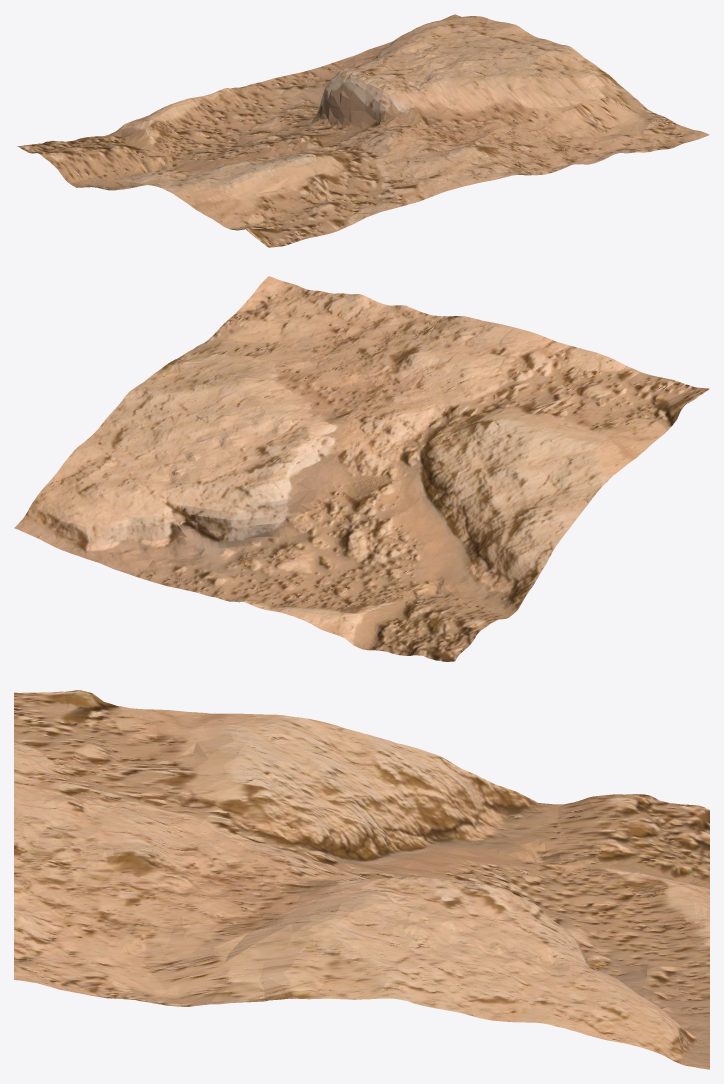
3 views of the same model, one above another, from view 1: azimuth 30°, elevation 25°; view 2: azimuth 150°, elevation 25°; view 3: azimuth 270°, elevation 25° (orthographic). The views are drawn at different scales.
Bounding box in the file's own units: 1.04 × 0.2498 × 1.04.
2 materials, 2 textured.
